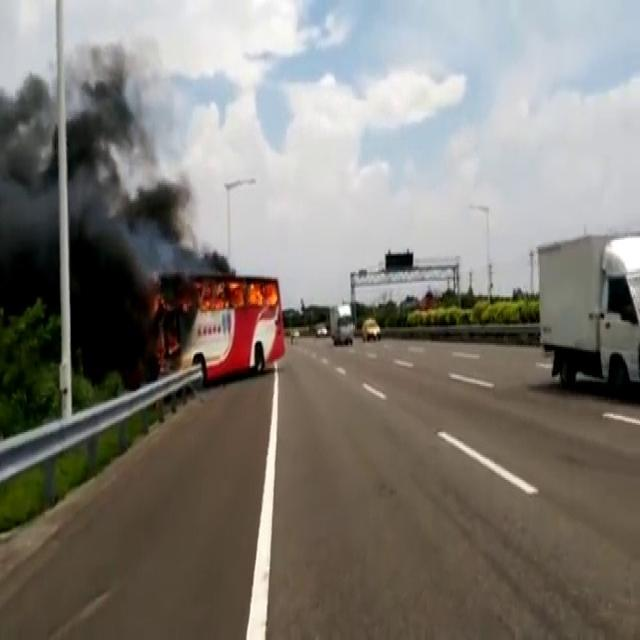Fire: (218, 276, 282, 314)
Smoke: (0, 4, 187, 354)
